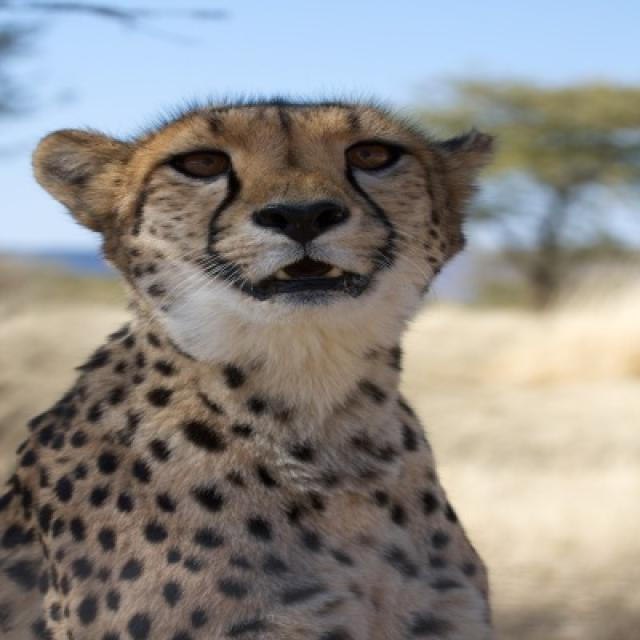Cheetah: (0, 101, 496, 638)
